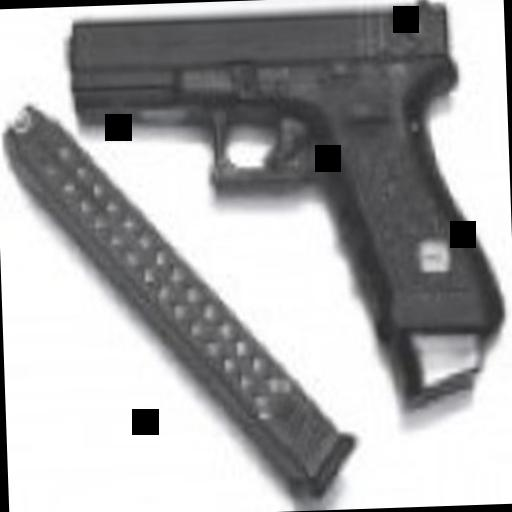Handgun: (63, 0, 500, 410)
